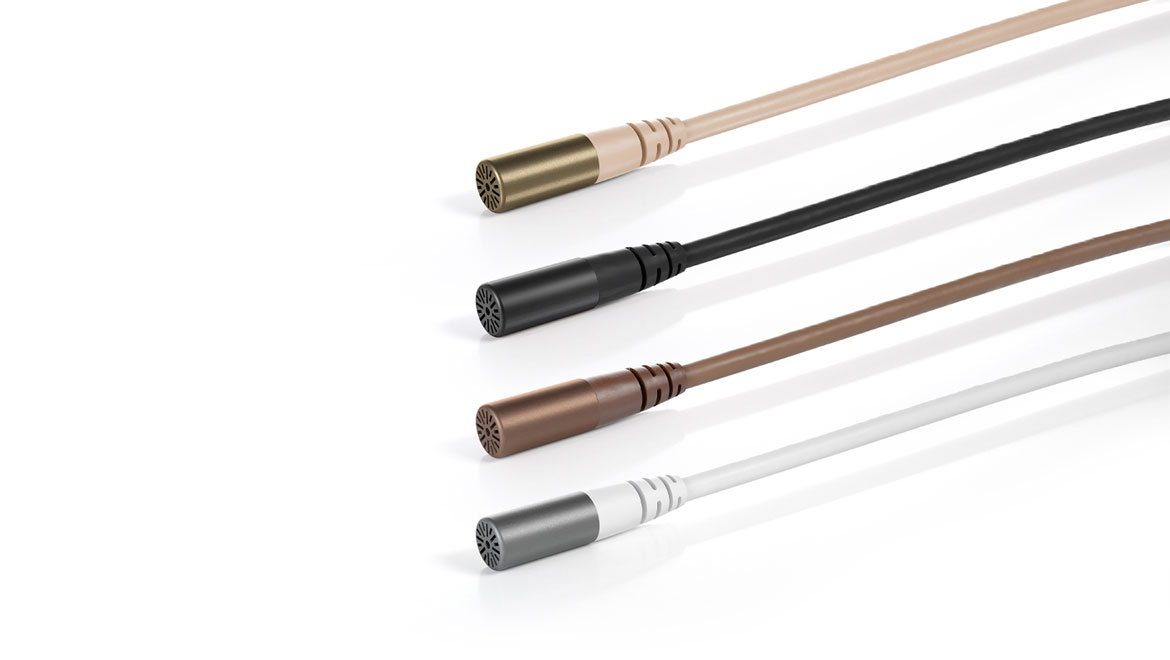microphone: (464, 94, 1170, 347), (473, 328, 1170, 577), (471, 220, 1170, 461), (466, 4, 1170, 218)
